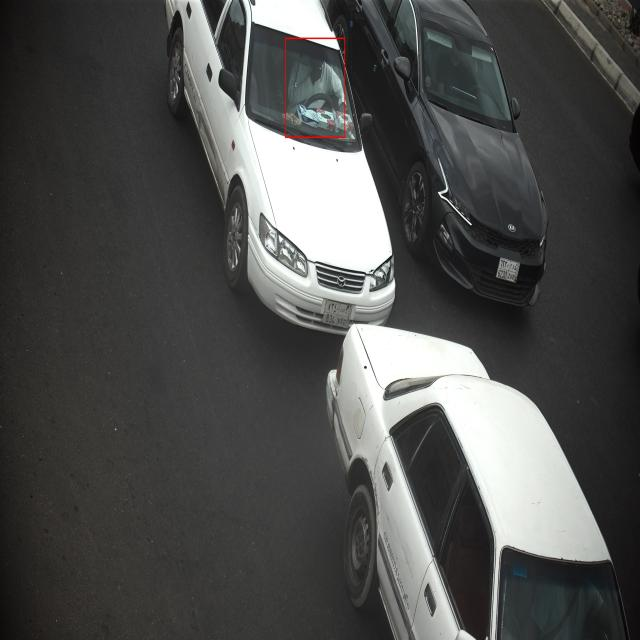windshield: (244, 23, 363, 154), (416, 16, 520, 130)
